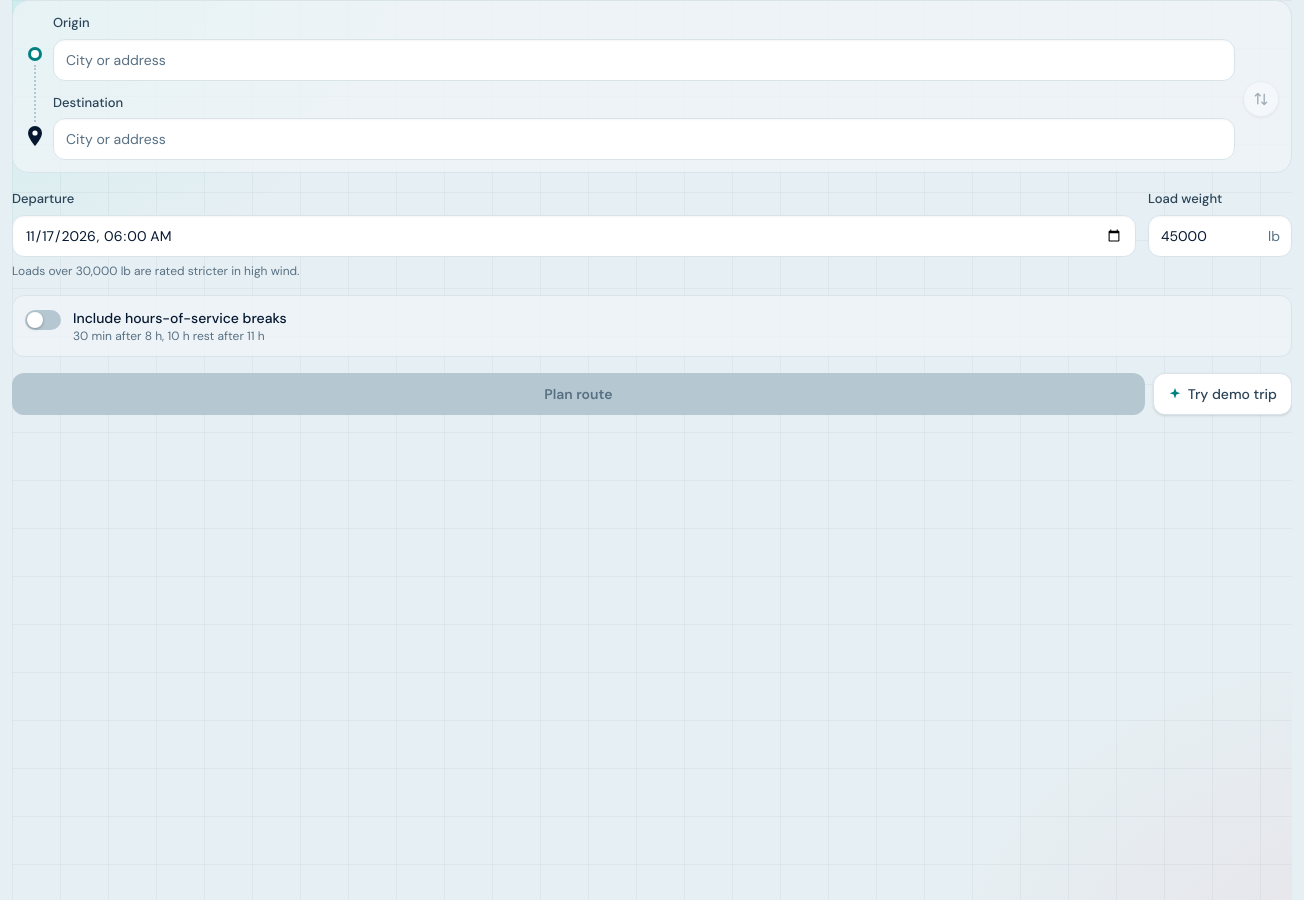
shows an inline error for an out-of-range weight and does not submit
In the dropdown labelled "Origin": (644, 60) [53, 38, 1235, 80], type "Denv"
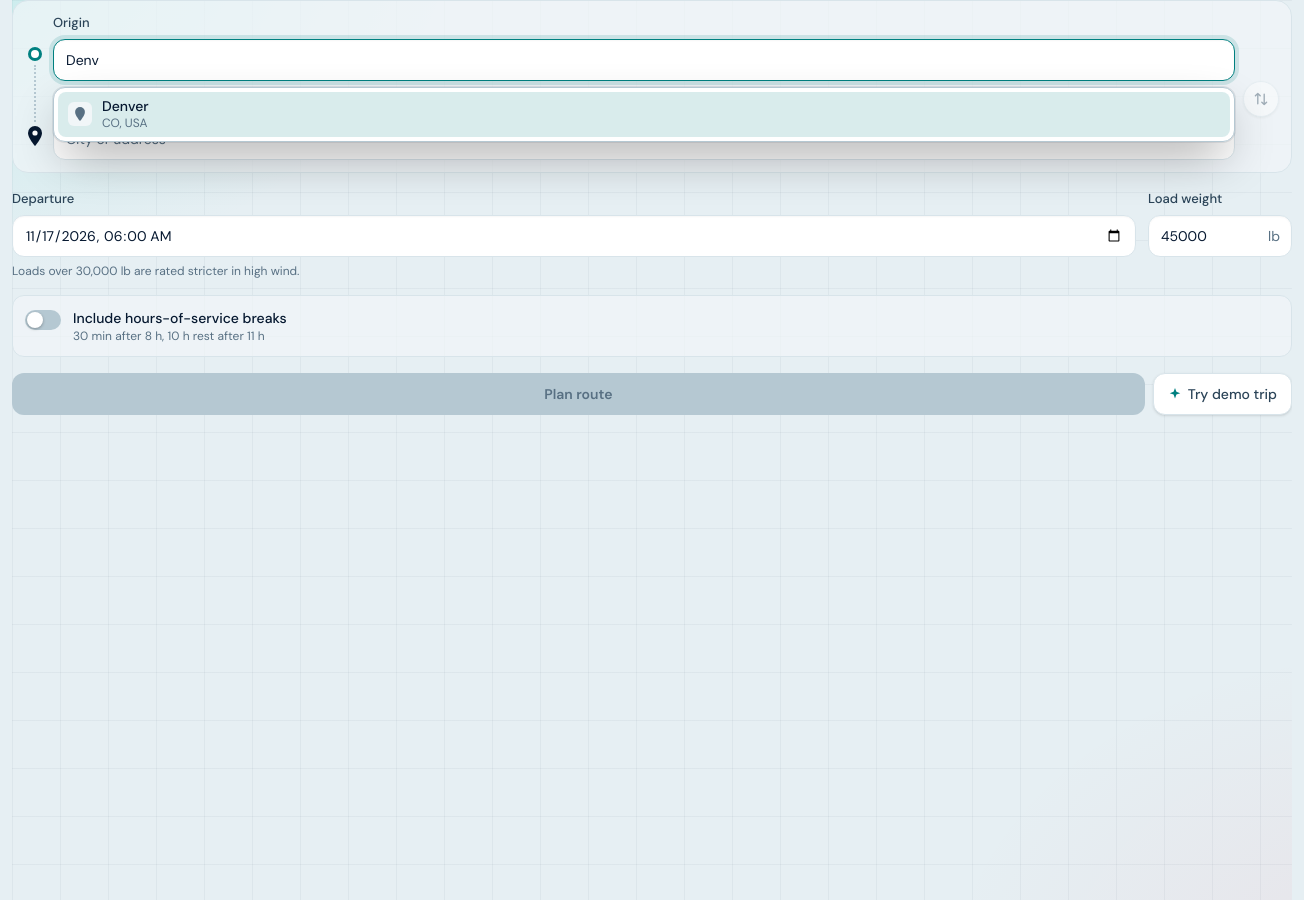
Click the option with aria-label "Denver, CO, USA": (125, 106) [58, 92, 1230, 137]
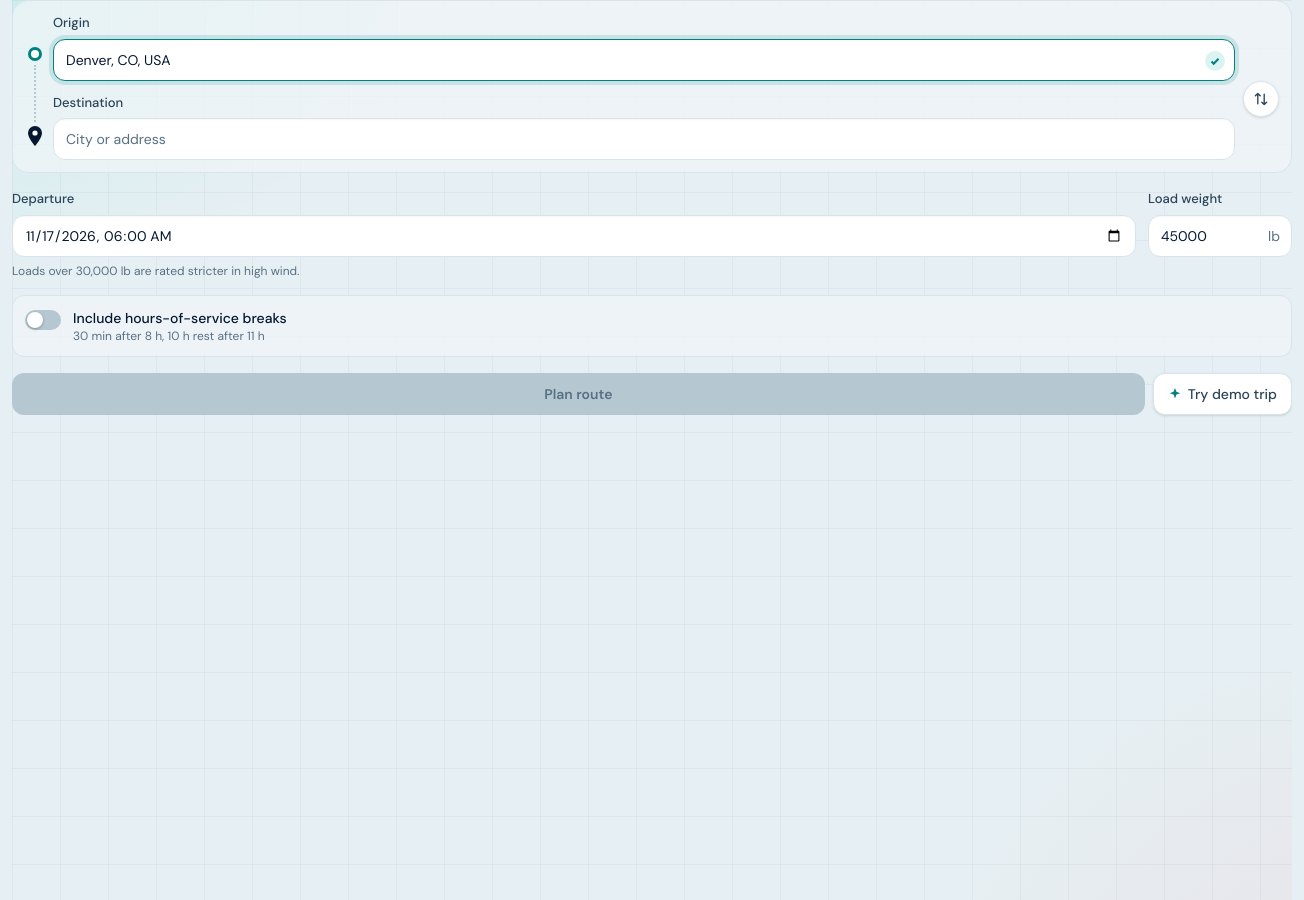
In the dropdown labelled "Destination": (644, 139) [53, 118, 1235, 160], type "Salt"
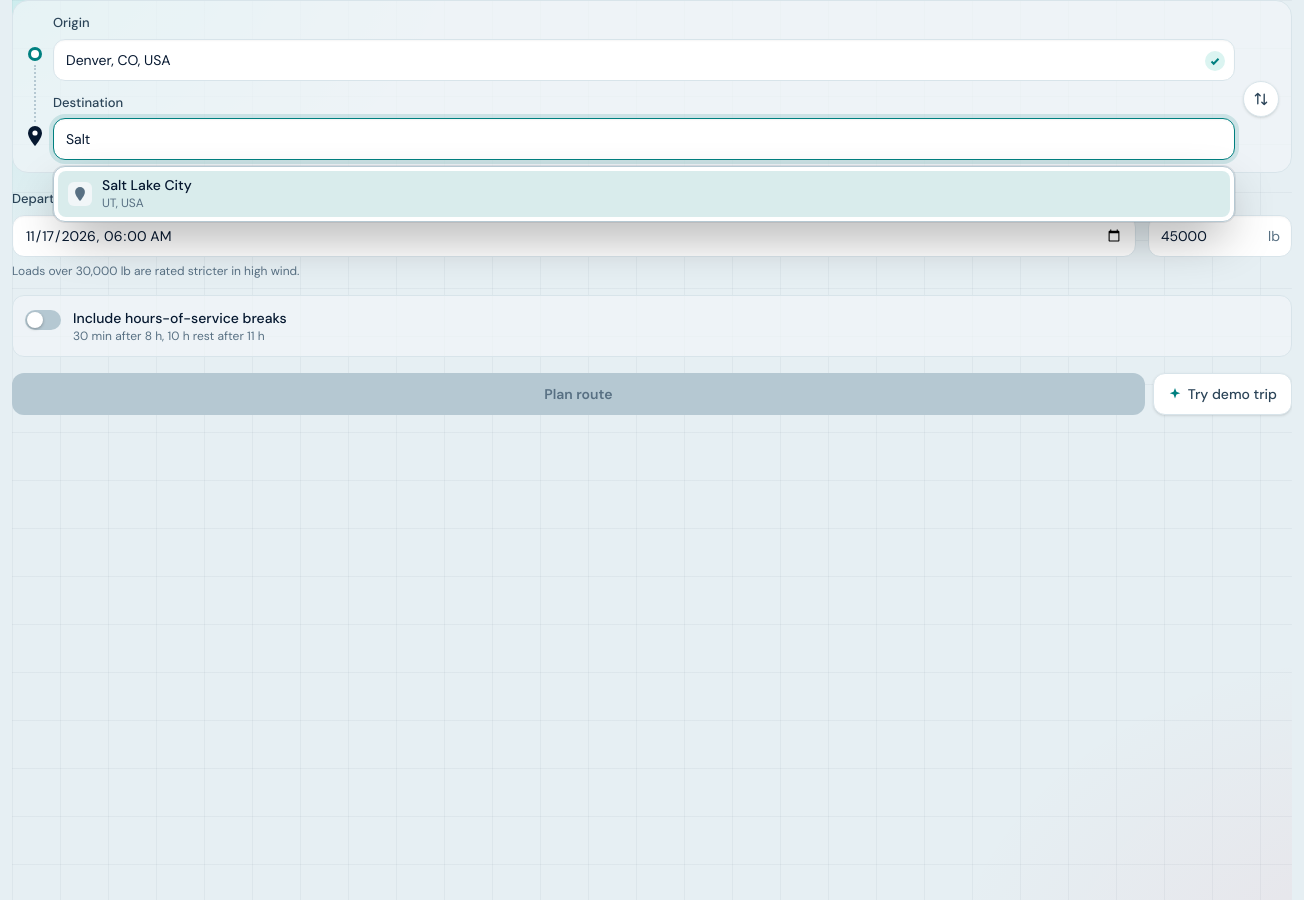
Click the option with aria-label "Salt Lake City, UT, USA": (147, 185) [58, 171, 1230, 216]
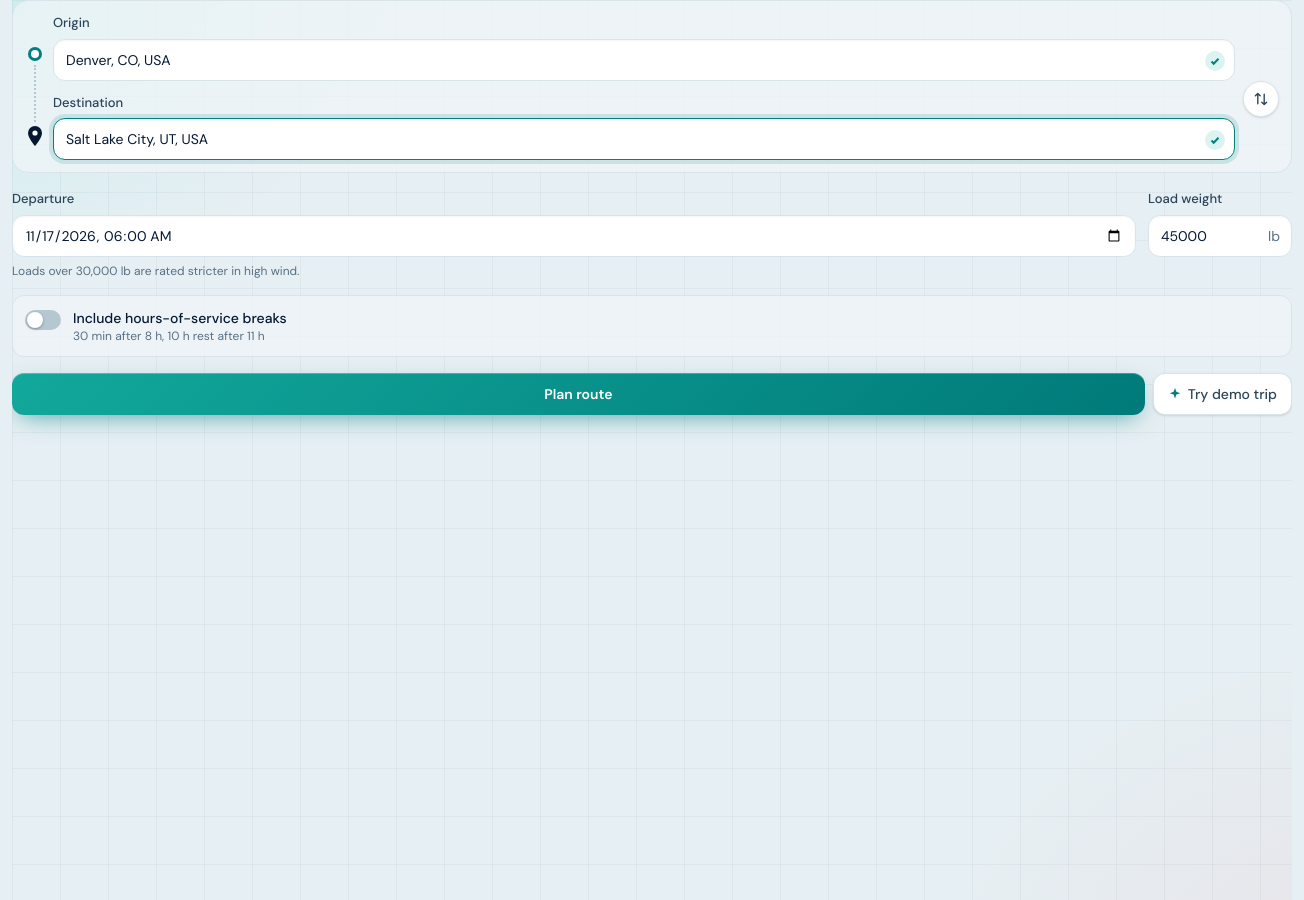
Replace the text in the number field labelled "Load weight" with "250000": (1220, 236) [1148, 214, 1292, 256]
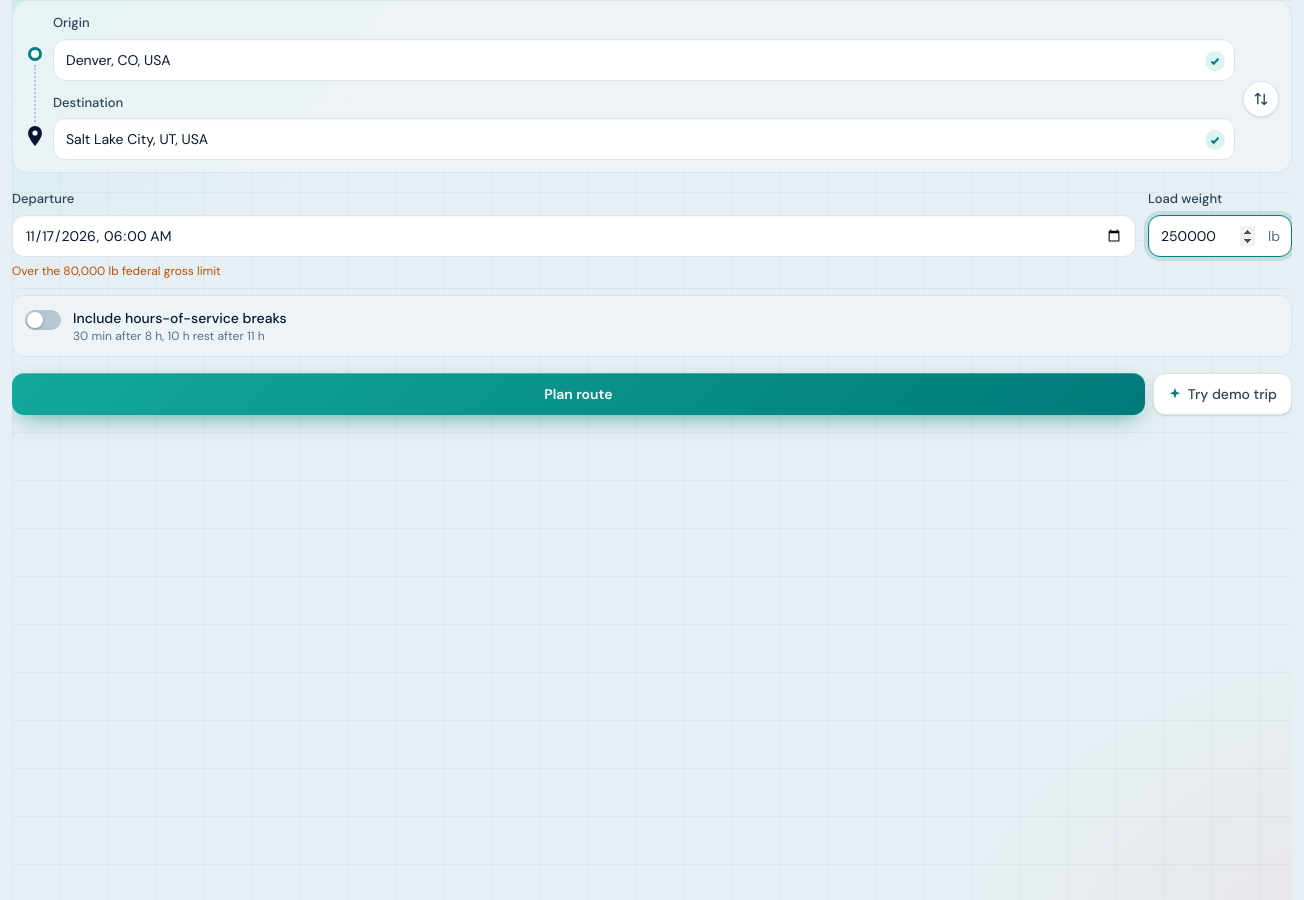
Click the button "Plan route": (578, 394) [12, 372, 1145, 414]
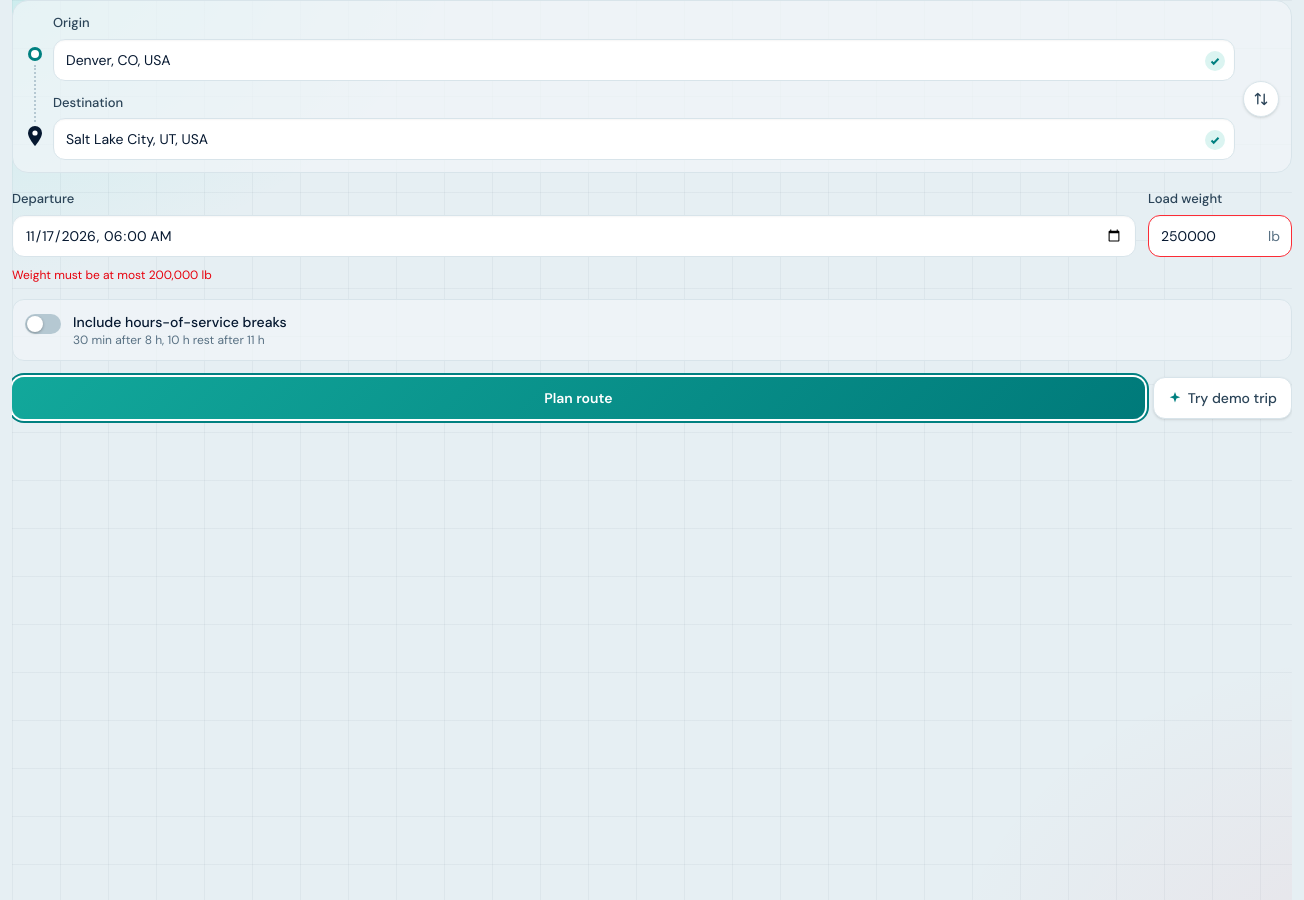
Check: the text "Weight must be at most 200,000 lb" is shown, box [12, 266, 212, 282]
